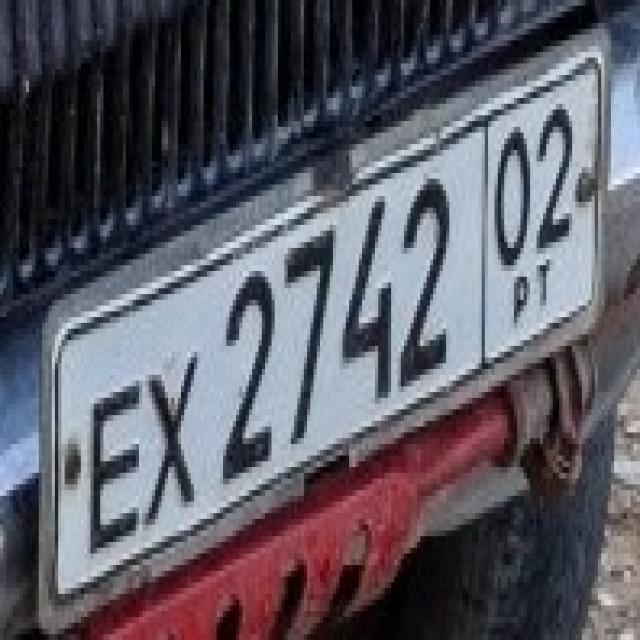0: (482, 115, 536, 271)
2: (391, 162, 459, 386), (210, 260, 278, 478), (524, 92, 576, 248)
4: (336, 178, 401, 404)
7: (272, 214, 340, 438)
E: (78, 363, 146, 548)
X: (132, 340, 204, 525)
